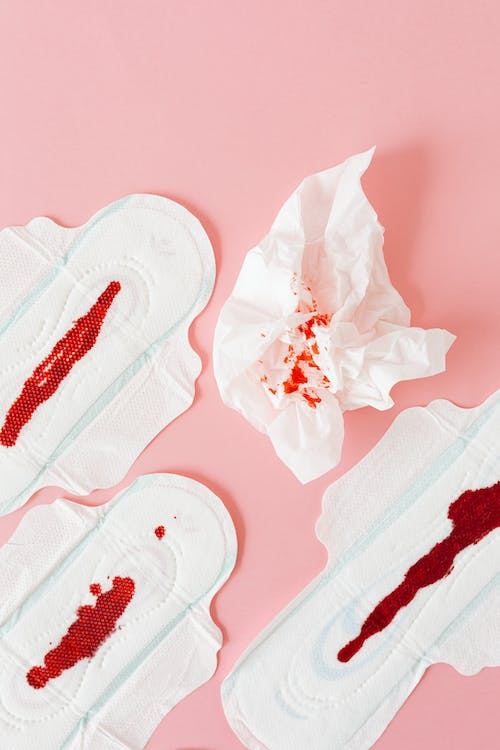blood: (332, 479, 500, 667), (24, 513, 178, 693), (0, 274, 125, 448), (254, 263, 338, 416)
